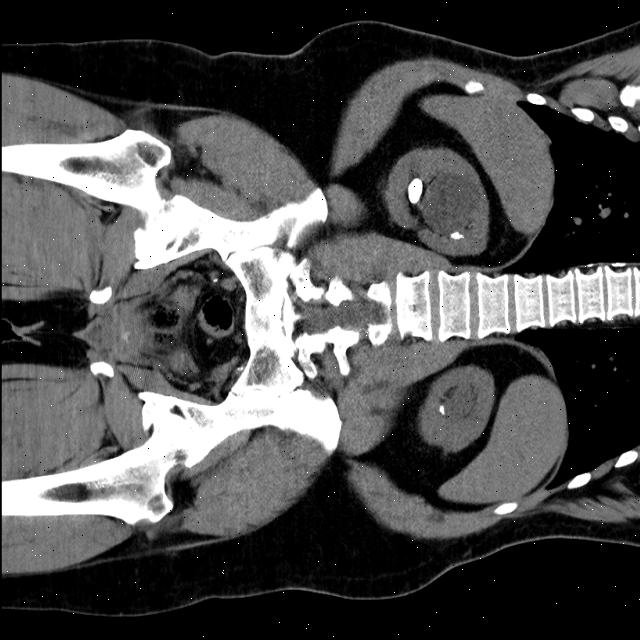kidneystone: (407, 178, 422, 205), (450, 232, 462, 241), (438, 405, 444, 415)
